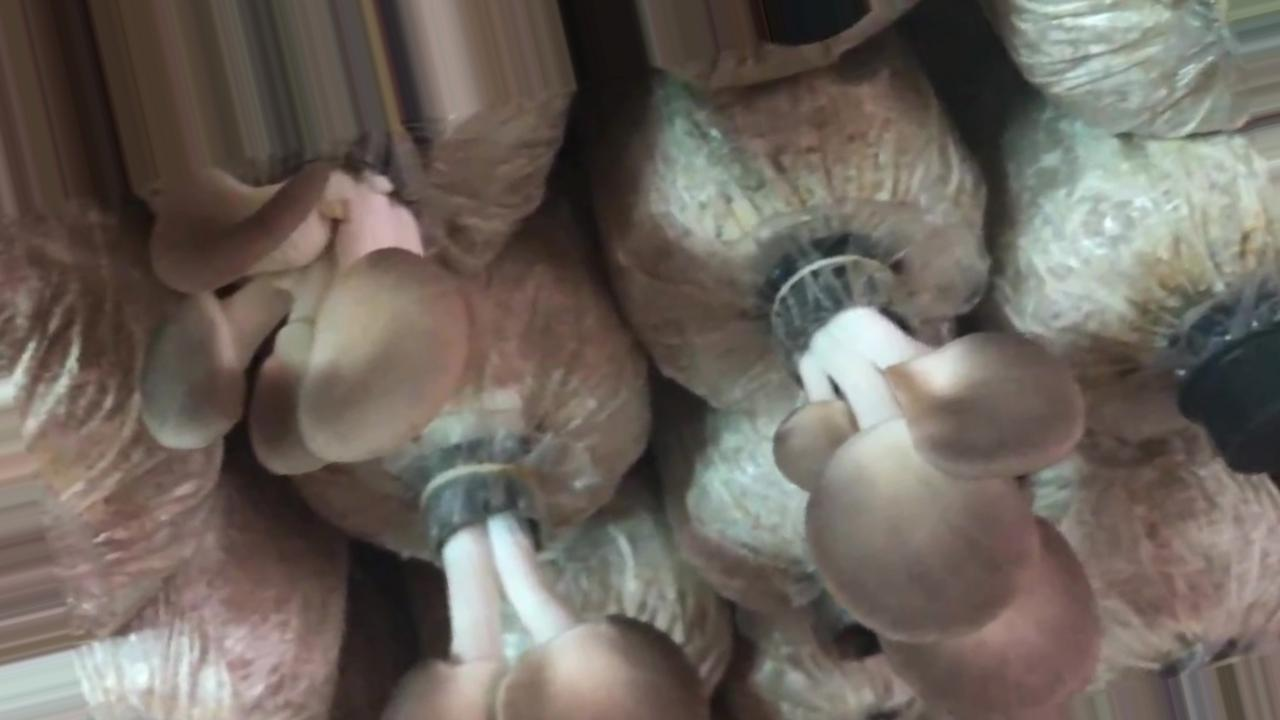nam: (774, 253, 1100, 713), (145, 149, 471, 477), (388, 445, 705, 720)
